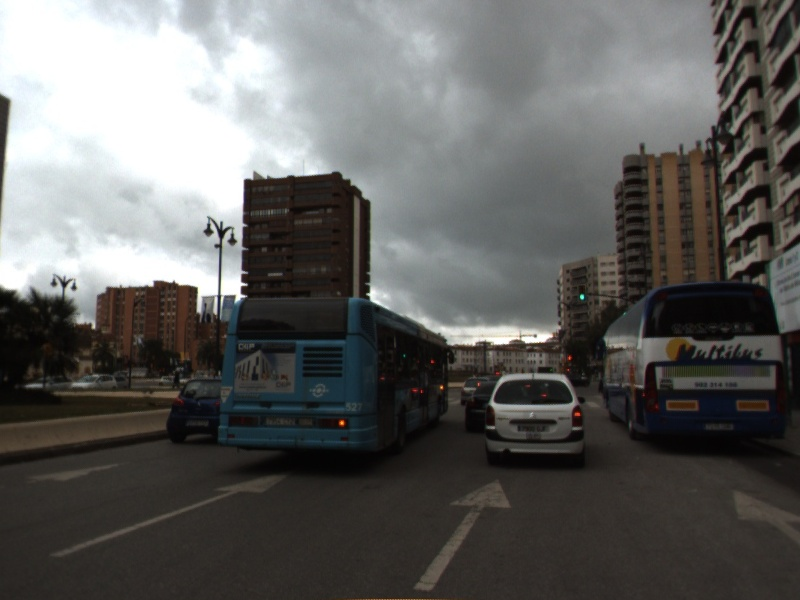STRAIGHT: (45, 467, 295, 562), (408, 474, 515, 594), (729, 484, 800, 548)
